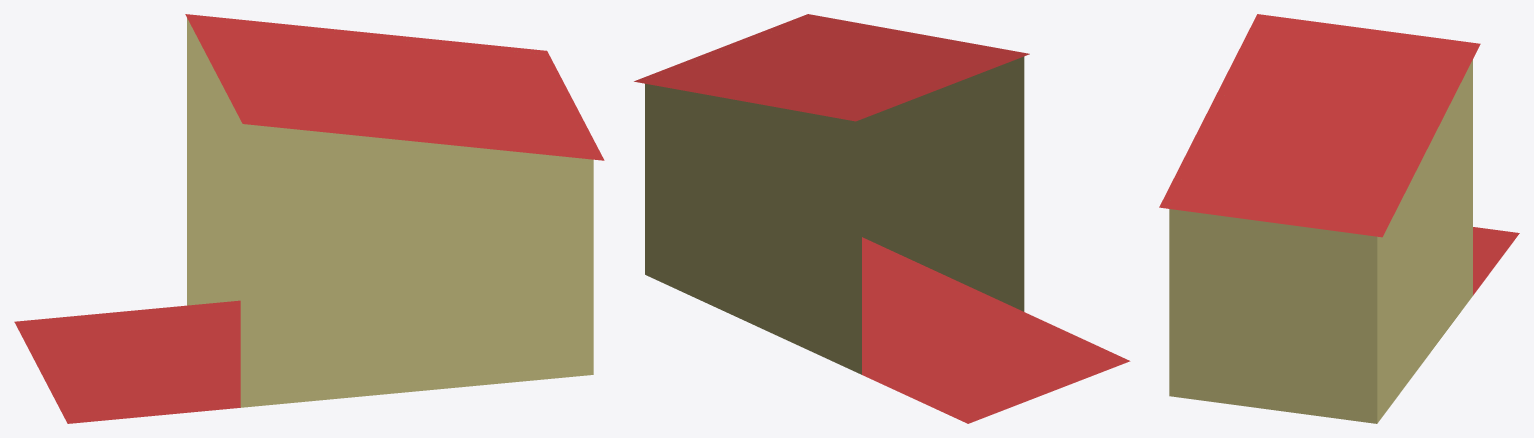
3 views of the same model, side by side, from view 1: azimuth 30°, elevation 25°; view 2: azimuth 150°, elevation 25°; view 3: azimuth 270°, elevation 25° (orthographic). The views are drawn at different scales.
Bounding box in the file's own units: 16.14 × 11.04 × 8.54.
